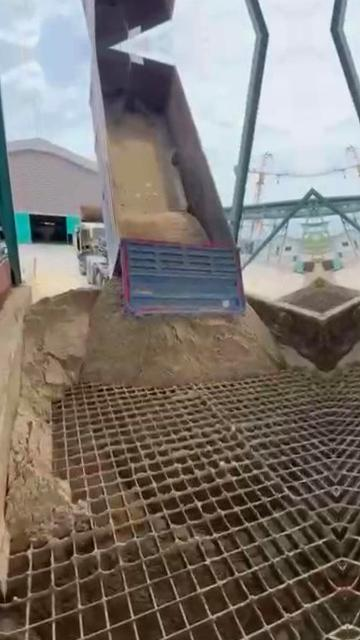sand: (7, 280, 281, 546), (106, 102, 209, 244), (284, 279, 322, 312), (282, 346, 316, 370)
